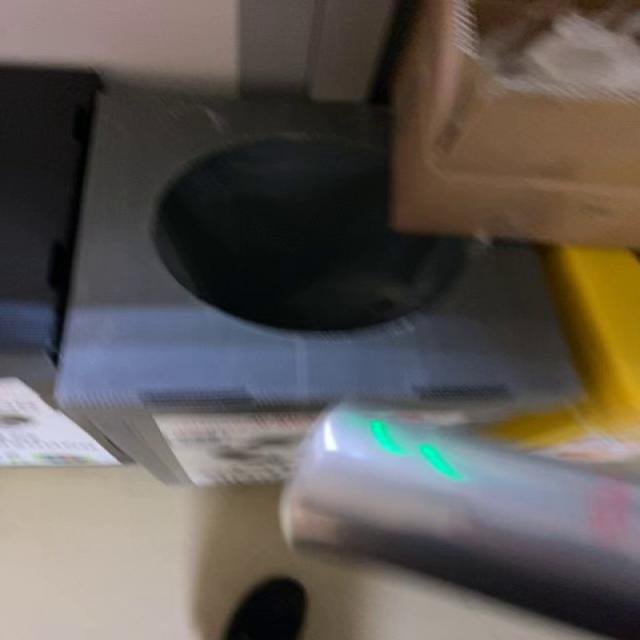metal: (280, 406, 639, 640)
